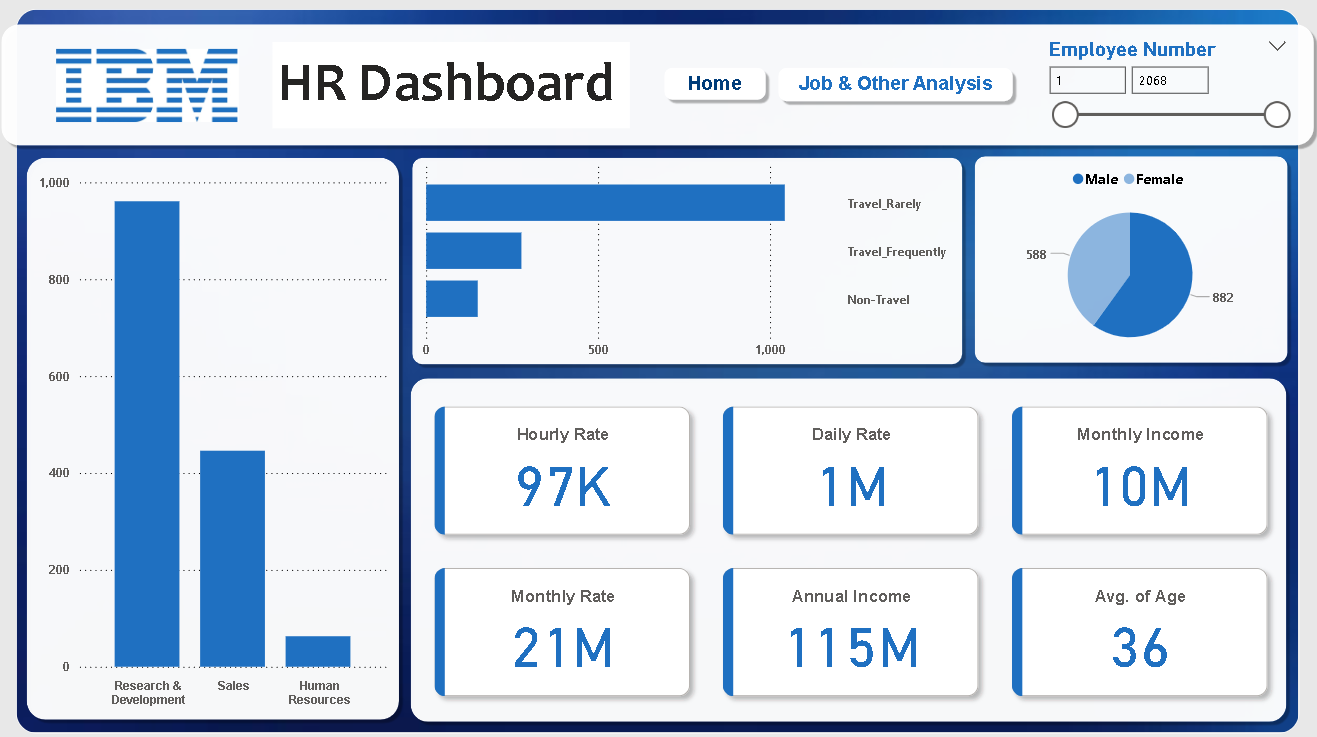

What the dashboard file says about the page in this screenshot:
{"tool":"powerbi","page":{"name":"Home","canvas":[1280,720],"ordinal":0},"visuals":[{"type":"image","box":[20,11.7,1240,700],"z":0},{"type":"shape","box":[25,150,371.7,555],"z":1000},{"type":"shape","box":[0,19.8,1280.2,129.2],"z":2000},{"type":"image","box":[53.3,43.3,186.7,83.3],"z":3000},{"type":"textbox","box":[268.3,43.3,345,83.3],"z":4000},{"type":"clusteredColumnChart","fields":{"Category":["IBM_HR_Cleaned.Department"],"Y":["CountNonNull(IBM_HR_Cleaned.Department)"]},"box":[36.7,163.3,348.3,530],"z":5000},{"type":"shape","box":[396.7,150,543.3,211.7],"z":6000},{"type":"clusteredBarChart","fields":{"Category":["IBM_HR_Cleaned.BusinessTravel"],"Y":["CountNonNull(IBM_HR_Cleaned.BusinessTravel)"]},"box":[406.7,150,521.7,210],"z":7000},{"type":"shape","box":[940,148.3,314.2,211.7],"z":8000},{"type":"pieChart","fields":{"Y":["CountNonNull(IBM_HR_Cleaned.Gender)"],"Category":["IBM_HR_Cleaned.Gender"]},"box":[946.9,155.1,300,196.9],"z":9000},{"type":"shape","box":[396,362,858,344],"z":10000},{"type":"cardVisual","fields":{"Data":["Sum(IBM_HR_Cleaned.HourlyRate)","Sum(IBM_HR_Cleaned.DailyRate)","Sum(IBM_HR_Cleaned.MonthlyIncome)","Sum(IBM_HR_Cleaned.MonthlyRate)","Sum(IBM_HR_Cleaned.AnnualIncome)","Median(IBM_HR_Cleaned.Age)"]},"box":[406.7,378.3,840,315],"z":11000},{"type":"shape","box":[640,62.9,110,42.9],"z":12000},{"type":"shape","box":[751.4,62.9,238.6,44.3],"z":13000},{"type":"slicer","fields":{"Values":["IBM_HR_Cleaned.EmployeeNumber"]},"box":[1005.7,32.9,254.3,150],"z":14000}]}

Visuals, with their boxes in screenshot pixels (x1, y1, x2, y2), scaled from the page's 1280x720 canvas onto the 1317x737 screenshot:
image: box(21, 12, 1296, 729)
shape: box(26, 154, 408, 722)
shape: box(0, 20, 1316, 153)
image: box(55, 44, 247, 130)
textbox: box(276, 44, 631, 130)
clusteredColumnChart - IBM_HR_Cleaned.Department x CountNonNull(IBM_HR_Cleaned.Department): box(38, 167, 396, 710)
shape: box(408, 154, 967, 370)
clusteredBarChart - IBM_HR_Cleaned.BusinessTravel x CountNonNull(IBM_HR_Cleaned.BusinessTravel): box(418, 154, 955, 368)
shape: box(967, 152, 1290, 368)
pieChart - CountNonNull(IBM_HR_Cleaned.Gender) x IBM_HR_Cleaned.Gender: box(974, 159, 1283, 360)
shape: box(407, 371, 1290, 723)
cardVisual - Sum(IBM_HR_Cleaned.HourlyRate) x Sum(IBM_HR_Cleaned.DailyRate): box(418, 387, 1283, 710)
shape: box(658, 64, 772, 108)
shape: box(773, 64, 1019, 110)
slicer - IBM_HR_Cleaned.EmployeeNumber: box(1035, 34, 1296, 187)
